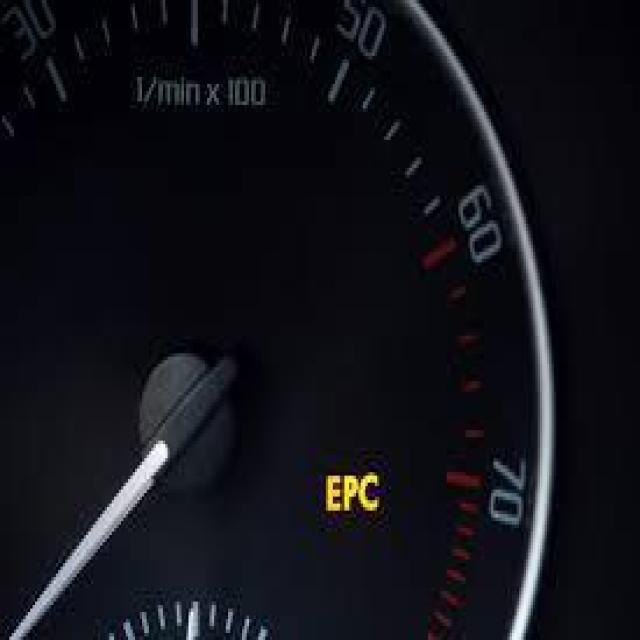kontrolka: (306, 455, 391, 533)
